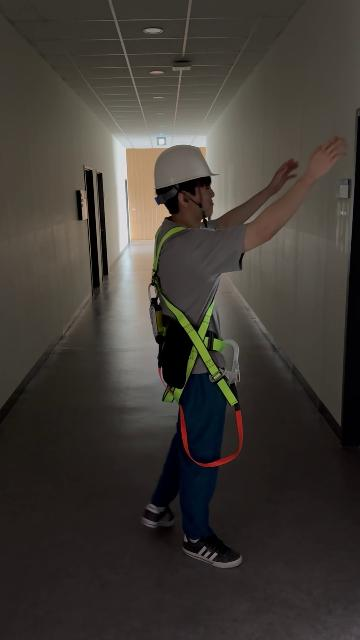helmet_worn: (152, 144, 221, 191)
shoe_not_worn: (182, 532, 243, 567), (140, 503, 176, 528)
vest_worn: (150, 227, 246, 458)
